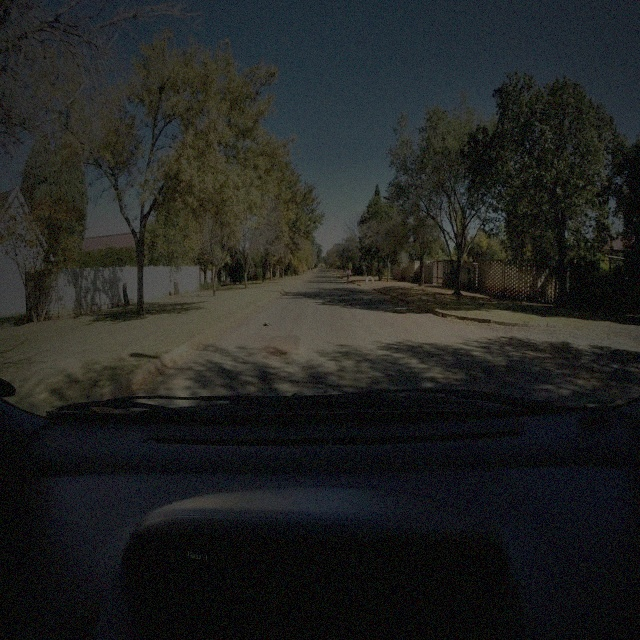pothole: (273, 349, 288, 357)
